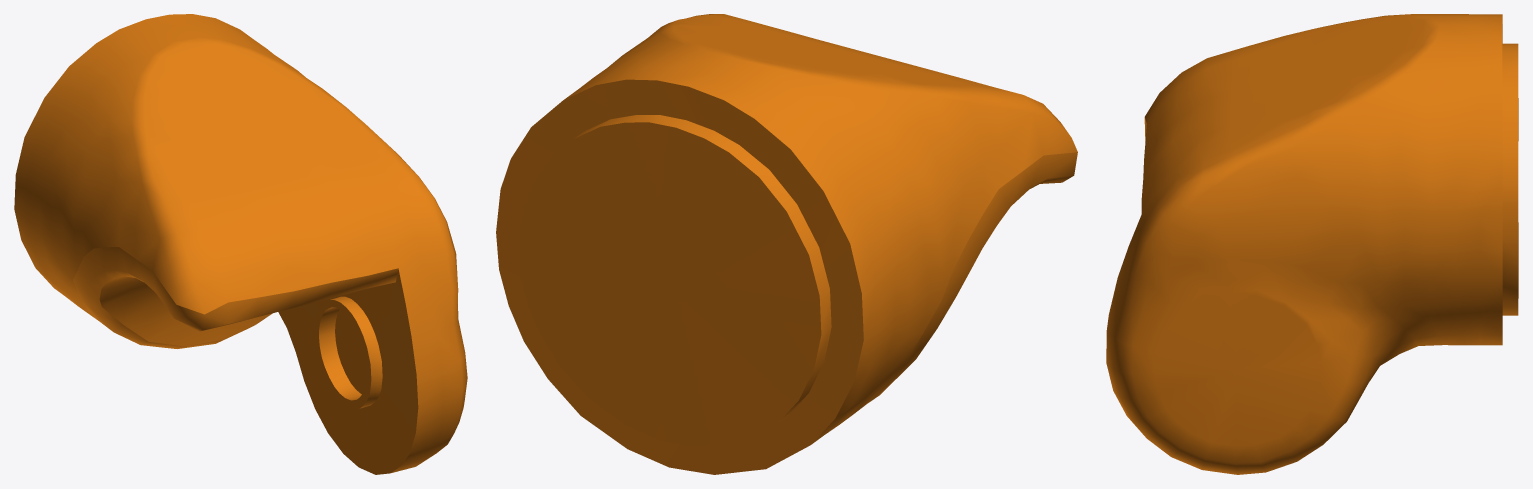
File: Neck_Upper.dae
3 renders of one model, left to right at view 1: azimuth 30°, elevation 25°; view 2: azimuth 150°, elevation 25°; view 3: azimuth 270°, elevation 25°, orthographic. The views are drawn at different scales.
Parts seen in each view (by area): view 1: Mesh; view 2: Mesh; view 3: Mesh.
Boxes of the visible parts, x1,y1,x2,y2 form: Mesh: [14, 14, 467, 474]; Mesh: [496, 14, 1077, 474]; Mesh: [1106, 14, 1518, 474].
Size of the model in its own units: 0.1283 by 0.1635 by 0.1566.
Materials: 1 (1 with a texture image).
